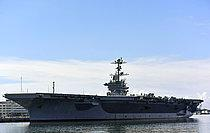MIL_Ship: (2, 56, 204, 120)
